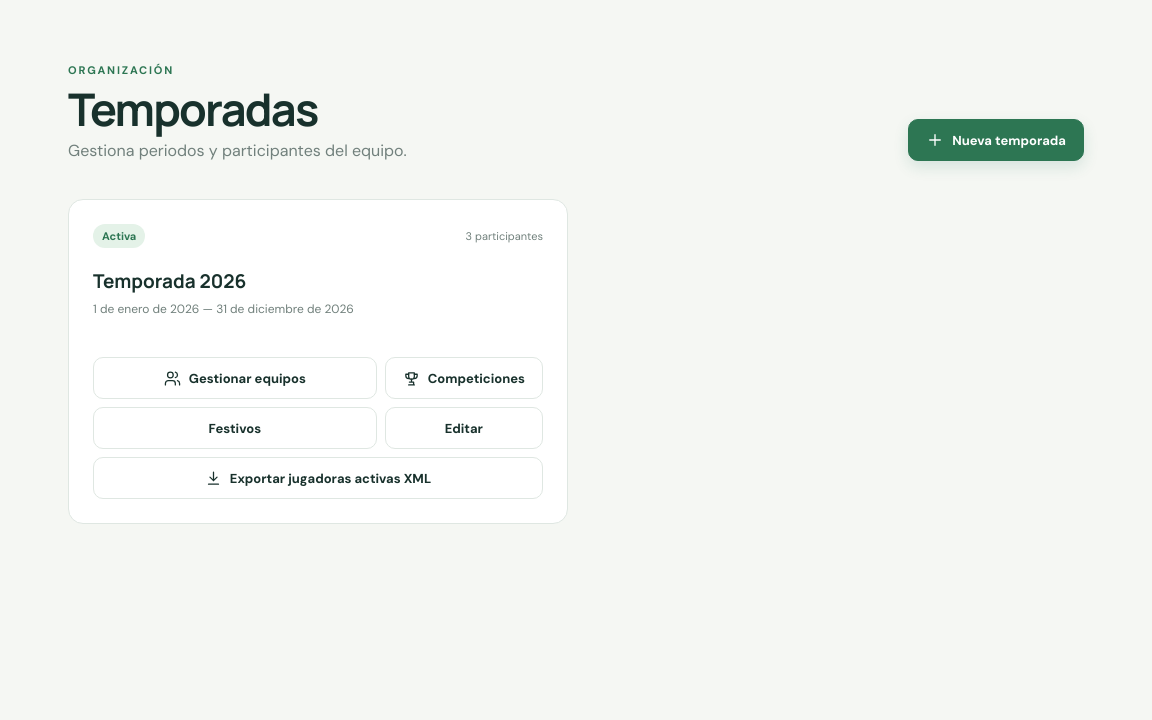
Test: SeasonsView › PDF preview includes unfiltered saved rosters, licenses and coaches without private details
Step 1. Click the button "Gestionar equipos" → (235, 378), box [93,357,377,399]
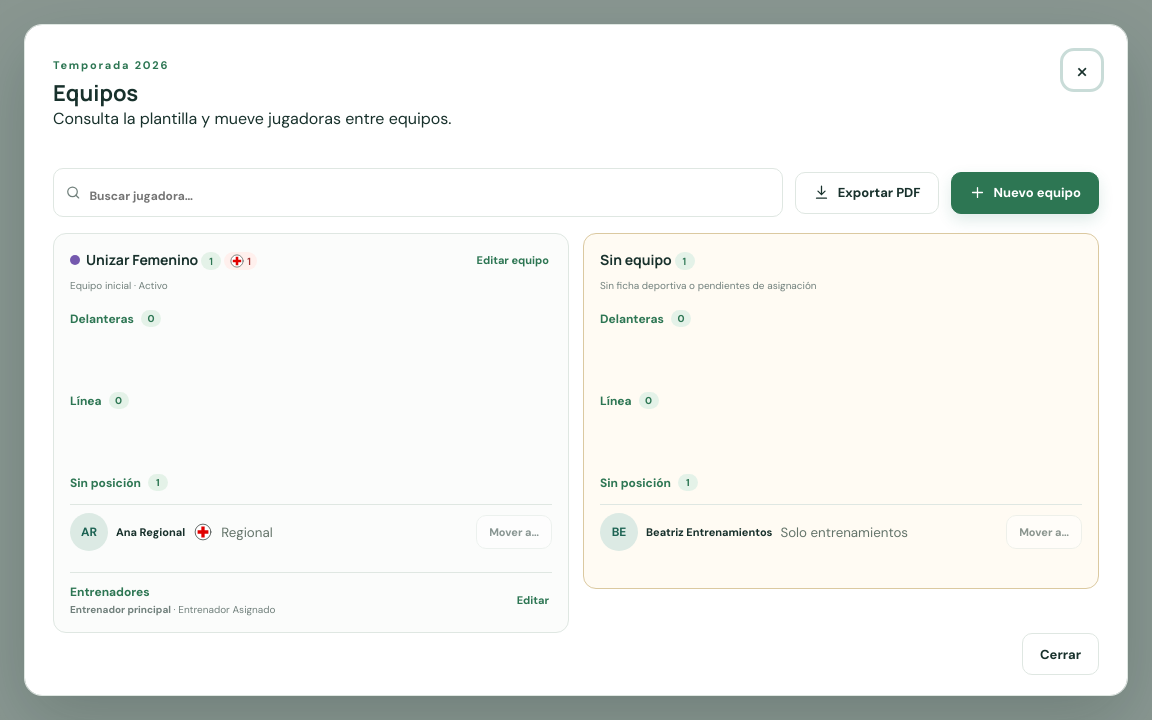
Step 2. Type "Beatriz" into the search field → (430, 196), box [89,176,771,216]
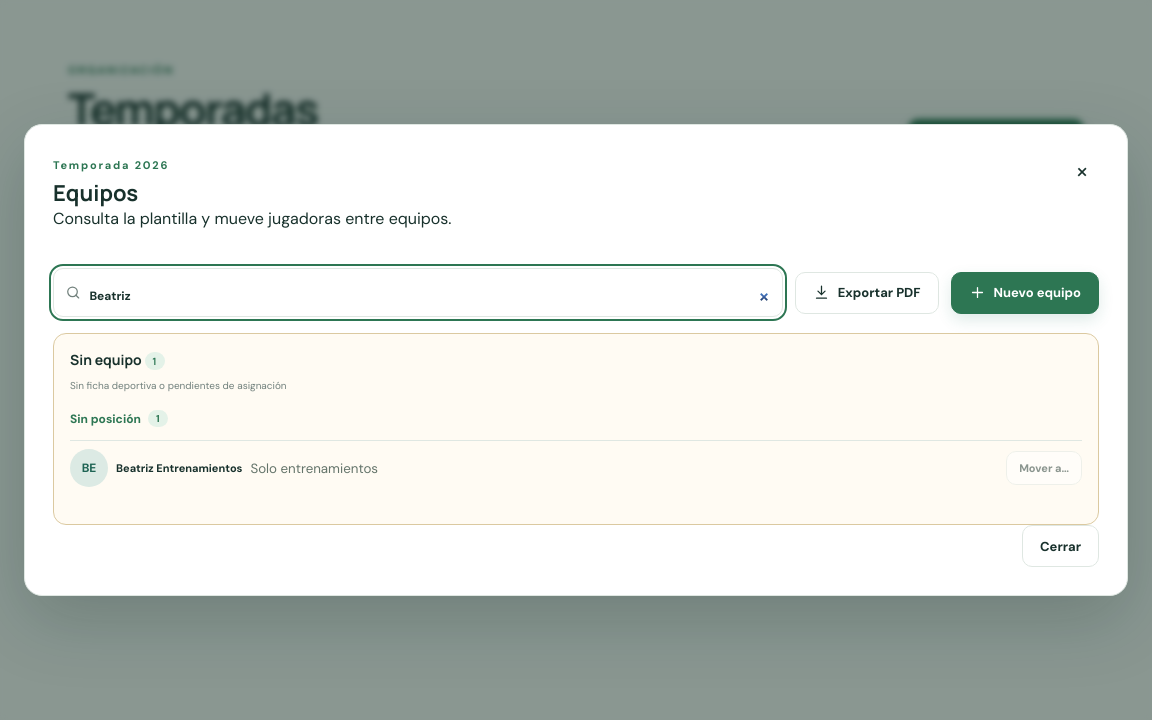
Step 3. Click the button "Exportar PDF" → (867, 292), box [795,272,939,314]
(page scrolled)
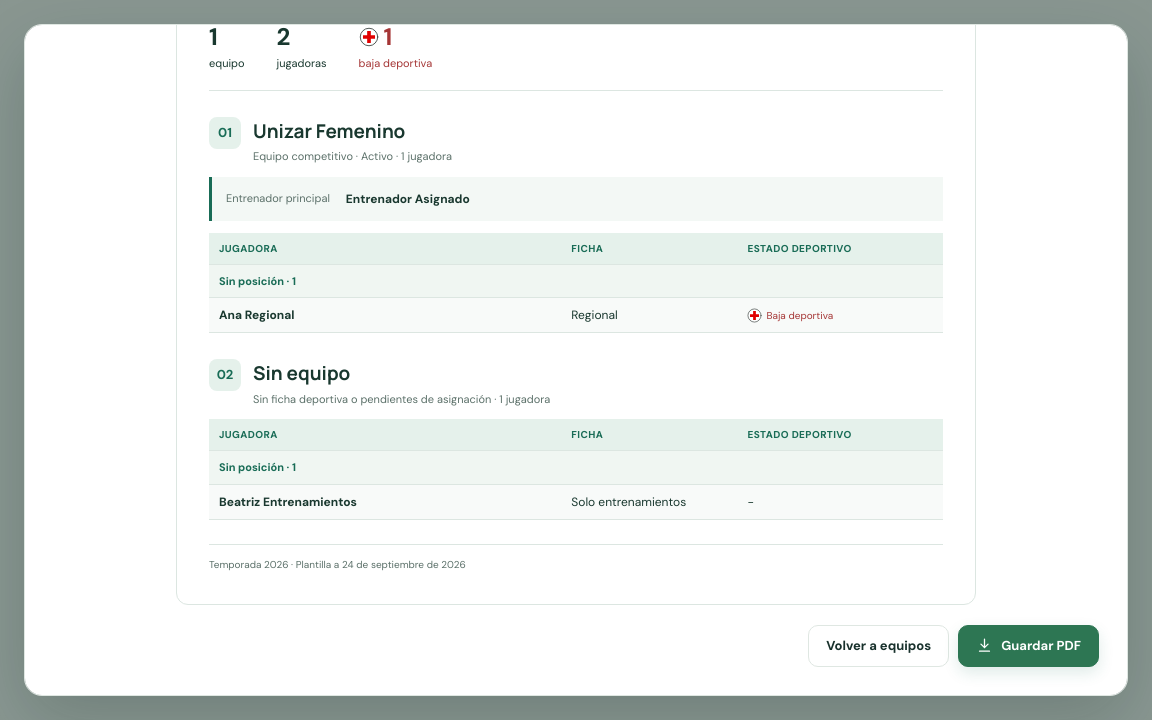
Now the column heading "Beatriz Entrenamientos" is shown, box [209,484,561,519]
Now the text "Solo entrenamientos" is shown, box [561,484,738,519]
Now the column heading "Ana Regional" is shown, box [209,298,561,332]
Step 4. Click the button "Guardar PDF" → (1029, 646), box [958,624,1099,666]
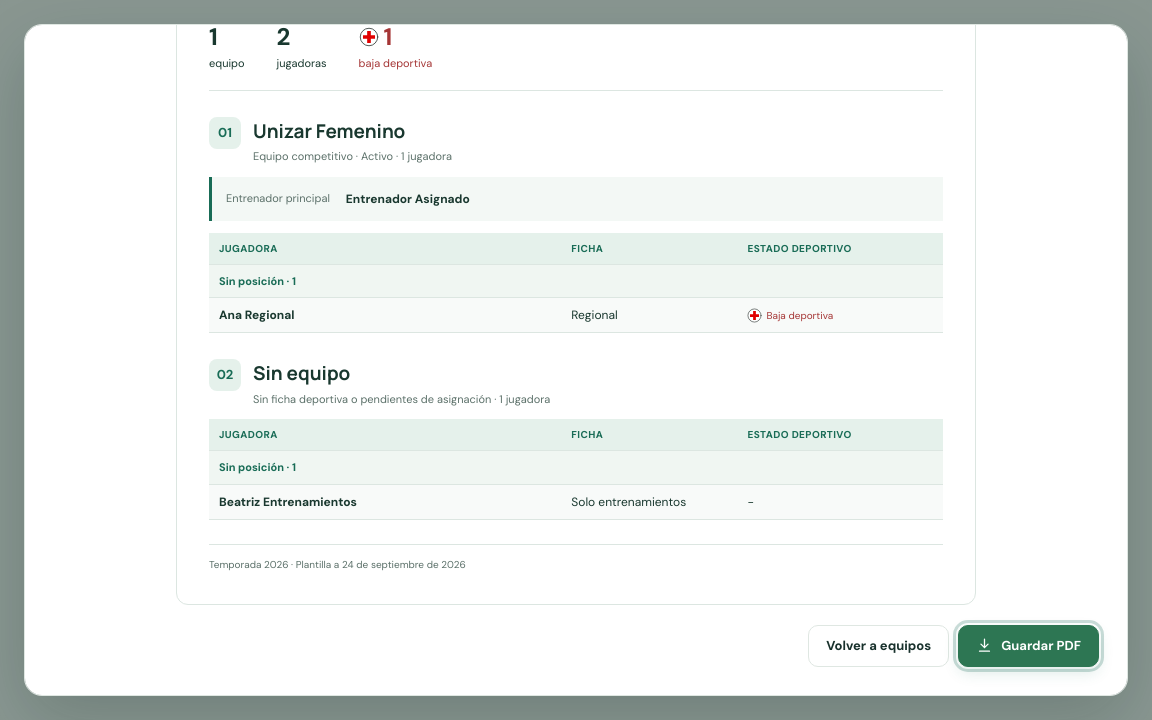
Step 5. Click the button "Volver a equipos" → (879, 646), box [808,624,949,666]
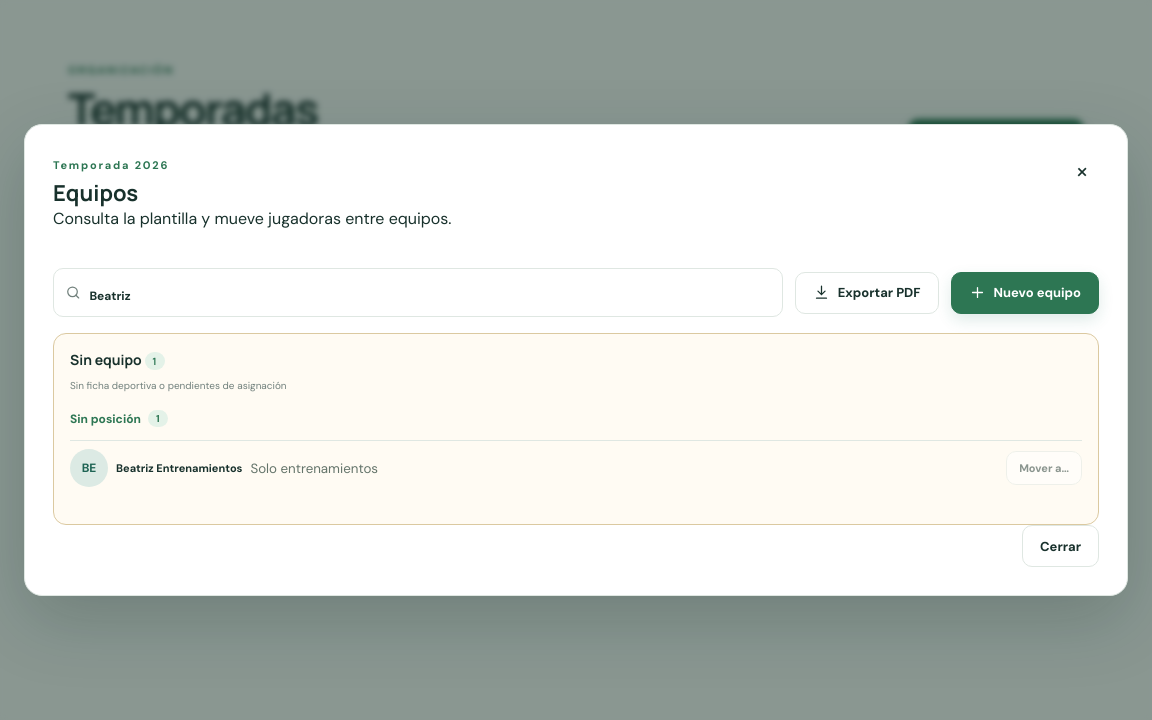
Now the search field holds "Beatriz", box [89,276,771,316]
